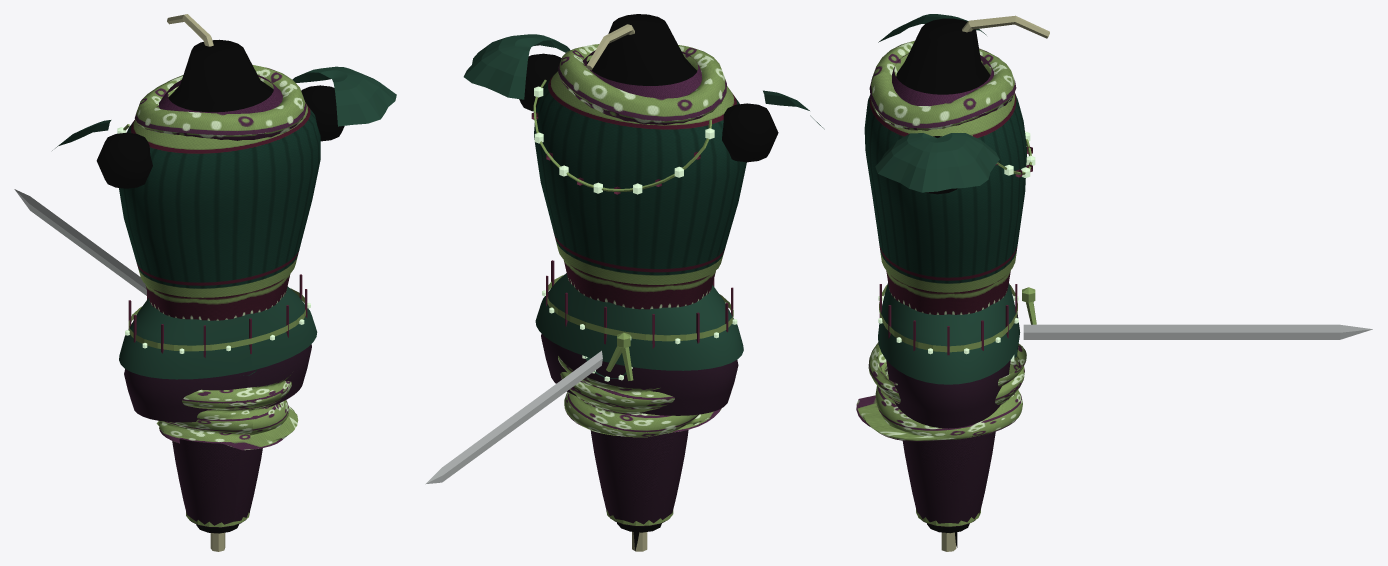
Rendered from shade_glowmire.glb.
3 views of the same model, side by side, from view 1: azimuth 30°, elevation 25°; view 2: azimuth 150°, elevation 25°; view 3: azimuth 270°, elevation 25° (orthographic). The views are drawn at different scales.
Parts seen in each view (by area): view 1: G_chest, G_hips, S_chest, G_head, G_hip_l, Weapon, Offhand; view 2: G_chest, G_hips, S_chest, G_hip_l, G_head, Weapon, Offhand; view 3: G_chest, G_hips, G_hip_l, G_head, Weapon, S_chest, Offhand.
Boxes of the visible parts, x1,y1,x2,y2 form: G_chest: [52, 65, 396, 320]; G_hips: [119, 274, 317, 422]; S_chest: [96, 39, 344, 188]; G_head: [156, 372, 298, 450]; G_hip_l: [172, 439, 262, 527]; Weapon: [14, 189, 256, 375]; Offhand: [167, 14, 225, 551]; G_chest: [463, 34, 824, 309]; G_hips: [535, 260, 743, 415]; S_chest: [519, 14, 778, 162]; G_hip_l: [590, 430, 688, 526]; G_head: [558, 356, 721, 437]; Weapon: [425, 350, 632, 484]; Offhand: [586, 24, 647, 551]; G_chest: [864, 14, 1035, 314]; G_hips: [878, 283, 1036, 428]; G_hip_l: [902, 432, 995, 527]; G_head: [856, 342, 1026, 441]; Weapon: [1010, 313, 1372, 361]; S_chest: [896, 18, 990, 194]; Offhand: [941, 15, 1049, 551].
Size of the model in its own units: 0.7191 by 1.06 by 0.9308.
Materials: 19 (8 with a texture image).
